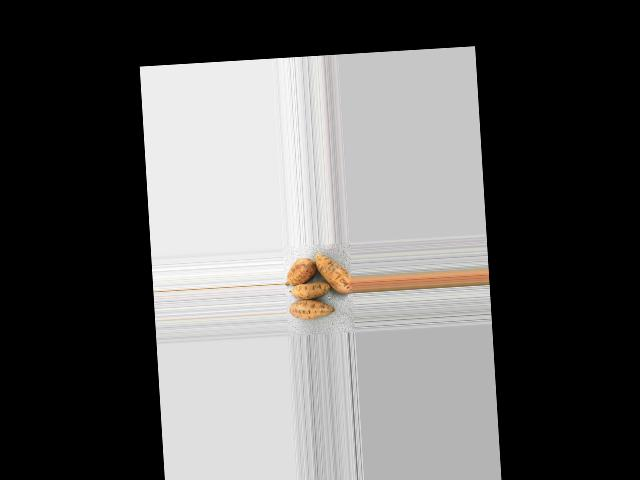sweet_potato: (314, 247, 353, 300)
